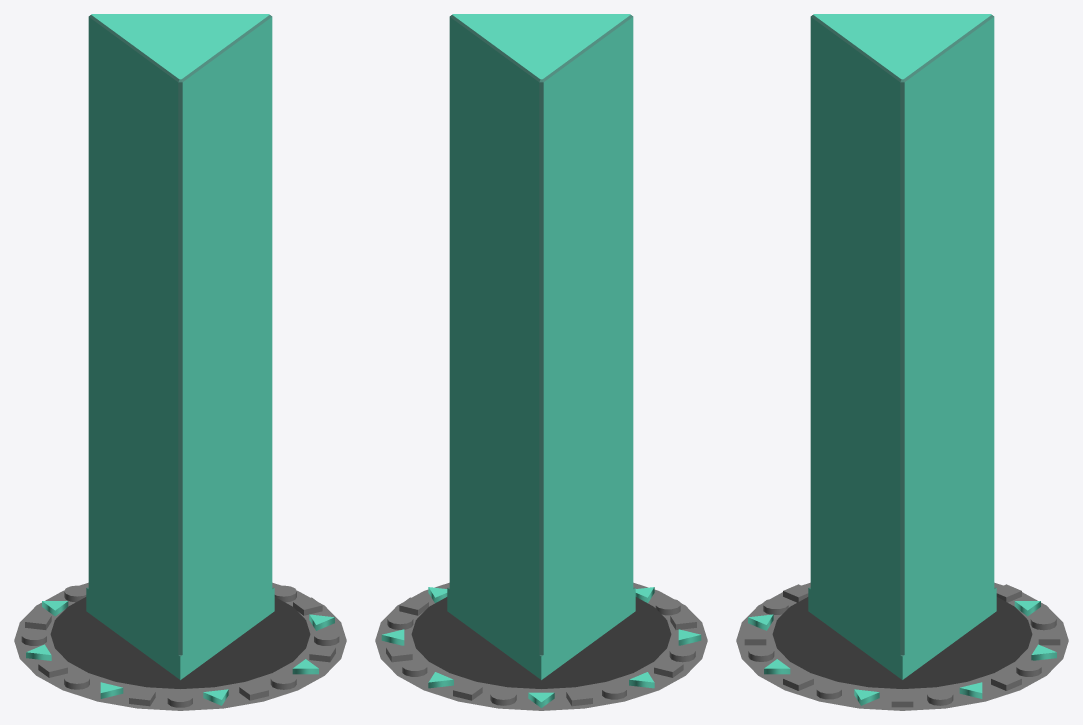
File: base_triangle_objects.fbx
3 renders of one model, left to right at view 1: azimuth 30°, elevation 25°; view 2: azimuth 150°, elevation 25°; view 3: azimuth 270°, elevation 25°, orthographic.
Parts seen in each view (by area): view 1: prisme, PT_triangle, plateau_triangle, prisme001; view 2: prisme, PT_triangle, plateau_triangle, prisme001; view 3: prisme, PT_triangle, plateau_triangle, prisme001.
Boxes of the visible parts, bbox=[...] form: prisme: bbox=[88, 14, 272, 661]; PT_triangle: bbox=[14, 582, 346, 710]; plateau_triangle: bbox=[50, 597, 310, 688]; prisme001: bbox=[86, 587, 274, 679]; prisme: bbox=[449, 14, 633, 677]; PT_triangle: bbox=[375, 582, 707, 710]; plateau_triangle: bbox=[411, 597, 671, 688]; prisme001: bbox=[447, 587, 635, 679]; prisme: bbox=[810, 14, 994, 677]; PT_triangle: bbox=[736, 582, 1068, 710]; plateau_triangle: bbox=[772, 597, 1032, 688]; prisme001: bbox=[808, 587, 996, 679].
Size of the model in its own units: 30.13 by 30.13 by 60.42.
